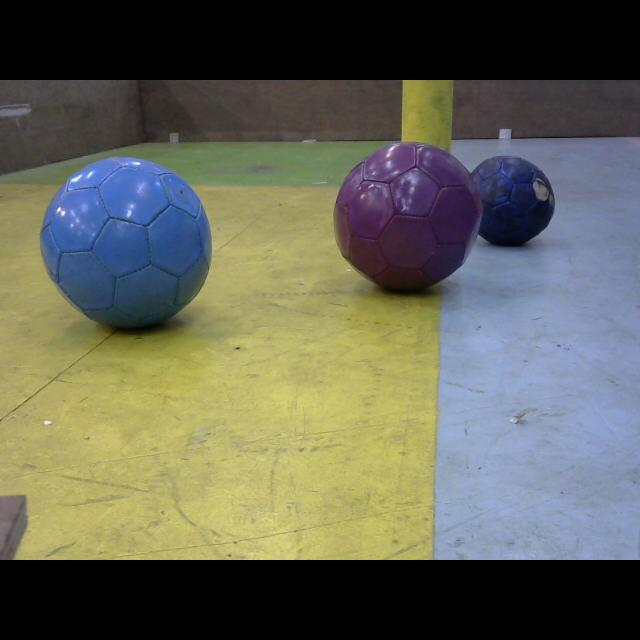B: (40, 156, 218, 334)
P: (329, 140, 476, 298)
